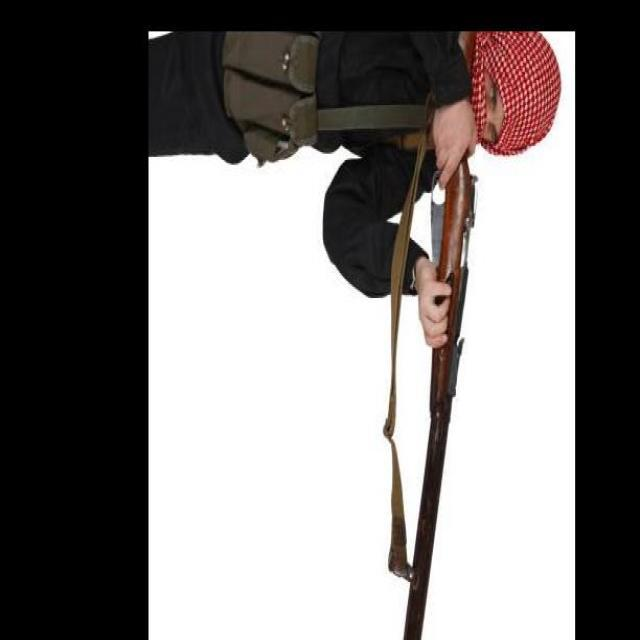weapon: (402, 30, 479, 640)
